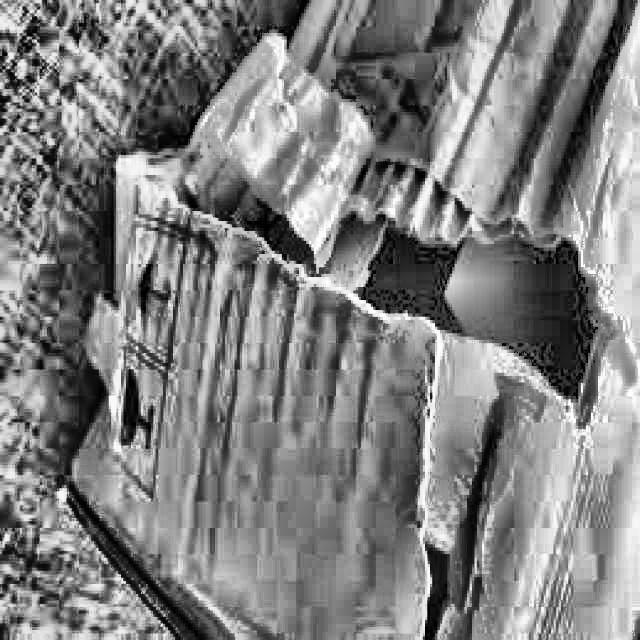box: (56, 0, 639, 639)
hole: (224, 137, 616, 601)
